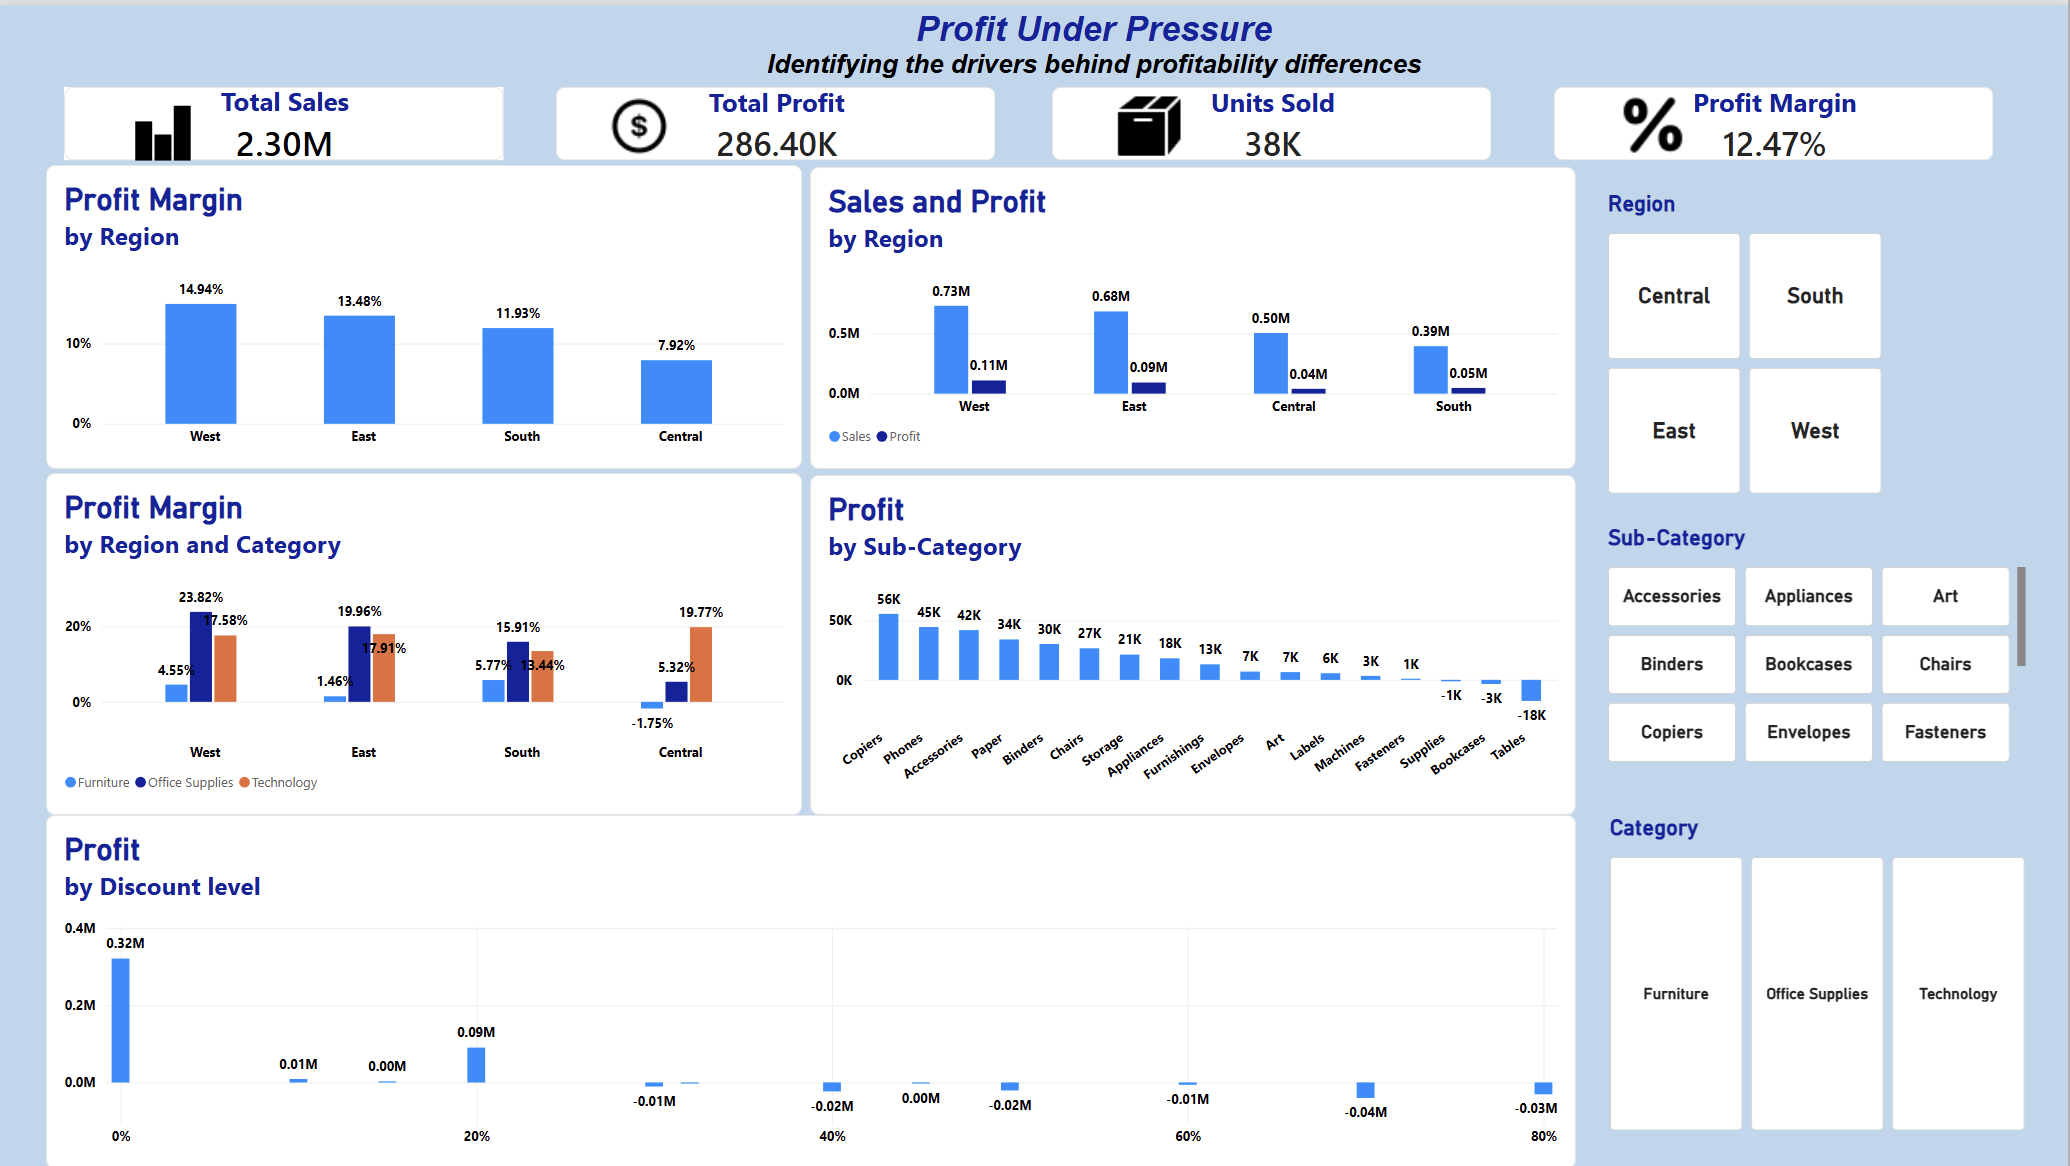

What the dashboard file says about the page in this screenshot:
{"tool":"powerbi","page":{"name":"Page 1","canvas":[1920,1080],"ordinal":0},"visuals":[{"type":"cardVisual","fields":{"Data":["Sum(Sheet 1 - SampleSuperstore.Sales)"]},"box":[59.4,76.1,408.5,68.7],"z":0},{"type":"cardVisual","fields":{"Data":["Sum(Sheet 1 - SampleSuperstore.Profit)"]},"box":[516.2,76.1,408.5,68.7],"z":1000},{"type":"cardVisual","fields":{"Data":["Sheet 1 - SampleSuperstore.Profit Margin"]},"box":[1442.8,76.1,408.5,68.7],"z":2000},{"type":"cardVisual","fields":{"Data":["Sum(Sheet 1 - SampleSuperstore.Quantity)"]},"box":[976.7,76.1,408.5,68.7],"z":3000},{"type":"clusteredColumnChart","fields":{"Category":["Sheet 1 - SampleSuperstore.Region"],"Y":["Sheet 1 - SampleSuperstore.Profit Margin"]},"box":[42.7,148.5,701.9,282.2],"z":4000},{"type":"clusteredColumnChart","fields":{"Category":["Sheet 1 - SampleSuperstore.Region"],"Y":["Sum(Sheet 1 - SampleSuperstore.Sales)","Sum(Sheet 1 - SampleSuperstore.Profit)"]},"box":[752,150.4,711.2,280.4],"z":5000},{"type":"clusteredColumnChart","fields":{"Category":["Sheet 1 - SampleSuperstore.Region"],"Series":["Sheet 1 - SampleSuperstore.Category"],"Y":["Sheet 1 - SampleSuperstore.Profit Margin"]},"box":[42.7,434.5,701.9,317.5],"z":6000},{"type":"advancedSlicerVisual","fields":{"Values":["Sheet 1 - SampleSuperstore.Region"]},"box":[1492.9,172.7,386.2,282.2],"z":7000},{"type":"clusteredColumnChart","fields":{"Category":["Sheet 1 - SampleSuperstore.Sub-Category"],"Y":["Sum(Sheet 1 - SampleSuperstore.Profit)"]},"box":[752,436.4,711.2,315.7],"z":8000},{"type":"clusteredColumnChart","fields":{"Category":["Sheet 1 - SampleSuperstore.Discount"],"Y":["Sum(Sheet 1 - SampleSuperstore.Profit)"]},"box":[42.7,752,1420.5,328.7],"z":9000},{"type":"advancedSlicerVisual","fields":{"Values":["Sheet 1 - SampleSuperstore.Sub-Category"]},"box":[1492.9,482.8,388.1,222.8],"z":10000},{"type":"advancedSlicerVisual","fields":{"Values":["Sheet 1 - SampleSuperstore.Category"]},"box":[1494.8,752,386.2,293.4],"z":11000},{"type":"textbox","box":[703.8,3.7,623.9,87.3],"z":12000},{"type":"image","box":[100.3,89.1,102.1,55.7],"z":12001},{"type":"image","box":[989.7,76.1,154.1,72.4],"z":12002},{"type":"image","box":[503.2,76.1,180.1,72.4],"z":12003},{"type":"image","box":[1422.4,63.1,224.7,96.6],"z":12004}]}

Visuals, with their boxes in screenshot pixels (x1, y1, x2, y2), scaled from the page's 1920x1080 canvas onto the 2070x1166 screenshot:
cardVisual - Sum(Sheet 1 - SampleSuperstore.Sales): bbox=[64, 82, 504, 156]
cardVisual - Sum(Sheet 1 - SampleSuperstore.Profit): bbox=[557, 82, 997, 156]
cardVisual - Sheet 1 - SampleSuperstore.Profit Margin: bbox=[1556, 82, 1996, 156]
cardVisual - Sum(Sheet 1 - SampleSuperstore.Quantity): bbox=[1053, 82, 1493, 156]
clusteredColumnChart - Sheet 1 - SampleSuperstore.Region x Sheet 1 - SampleSuperstore.Profit Margin: bbox=[46, 160, 803, 465]
clusteredColumnChart - Sheet 1 - SampleSuperstore.Region x Sum(Sheet 1 - SampleSuperstore.Sales): bbox=[811, 162, 1578, 465]
clusteredColumnChart - Sheet 1 - SampleSuperstore.Region x Sheet 1 - SampleSuperstore.Category: bbox=[46, 469, 803, 812]
advancedSlicerVisual - Sheet 1 - SampleSuperstore.Region: bbox=[1610, 186, 2026, 491]
clusteredColumnChart - Sheet 1 - SampleSuperstore.Sub-Category x Sum(Sheet 1 - SampleSuperstore.Profit): bbox=[811, 471, 1578, 812]
clusteredColumnChart - Sheet 1 - SampleSuperstore.Discount x Sum(Sheet 1 - SampleSuperstore.Profit): bbox=[46, 812, 1578, 1165]
advancedSlicerVisual - Sheet 1 - SampleSuperstore.Sub-Category: bbox=[1610, 521, 2028, 762]
advancedSlicerVisual - Sheet 1 - SampleSuperstore.Category: bbox=[1612, 812, 2028, 1129]
textbox: bbox=[759, 4, 1431, 98]
image: bbox=[108, 96, 218, 156]
image: bbox=[1067, 82, 1233, 160]
image: bbox=[543, 82, 737, 160]
image: bbox=[1534, 68, 1776, 172]
